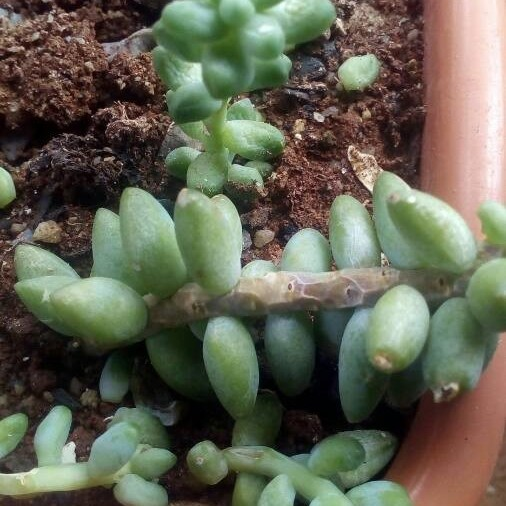obstacle: (37, 180, 497, 421)
